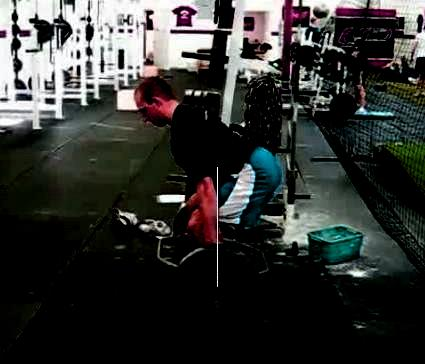Barbell: (211, 300, 226, 315)
